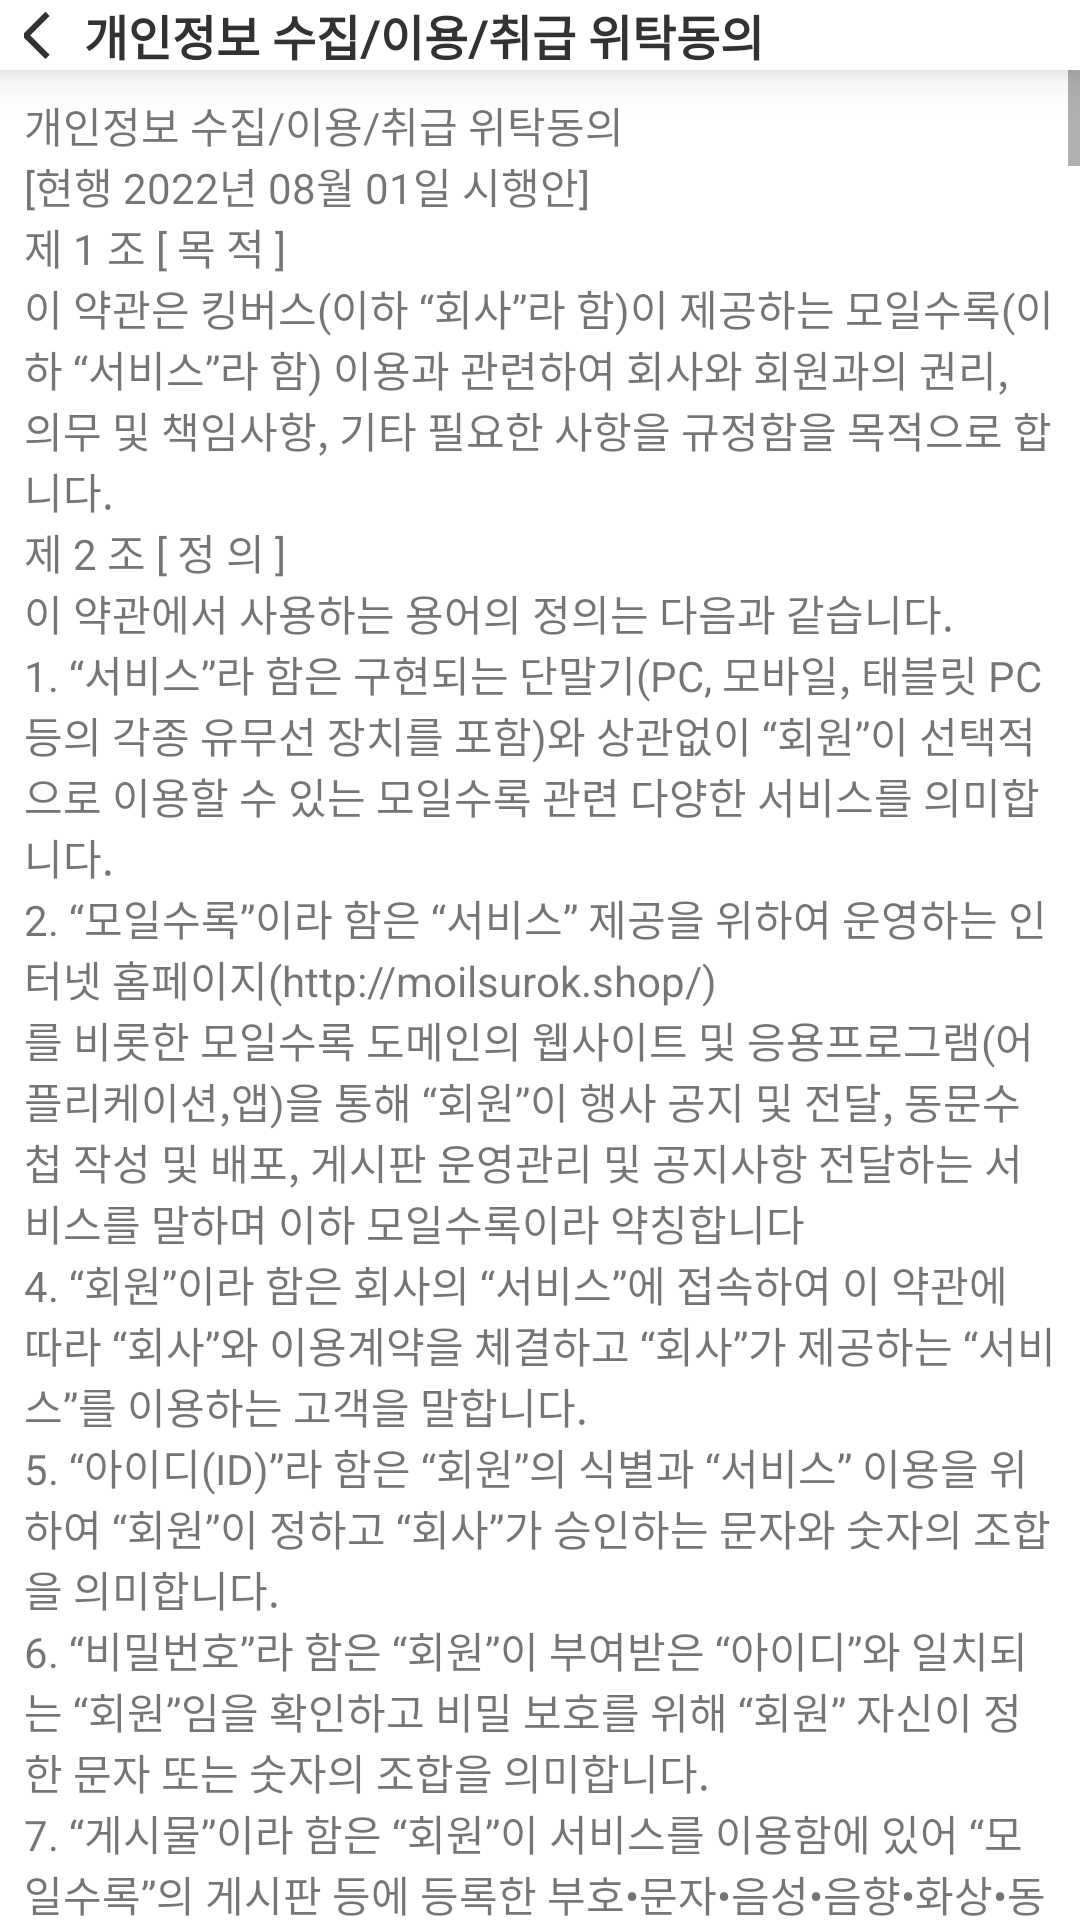

Point at icon controls on the screen. Image size 1080px x 1920px, points as [x,y].
back sharp: [37,35]
